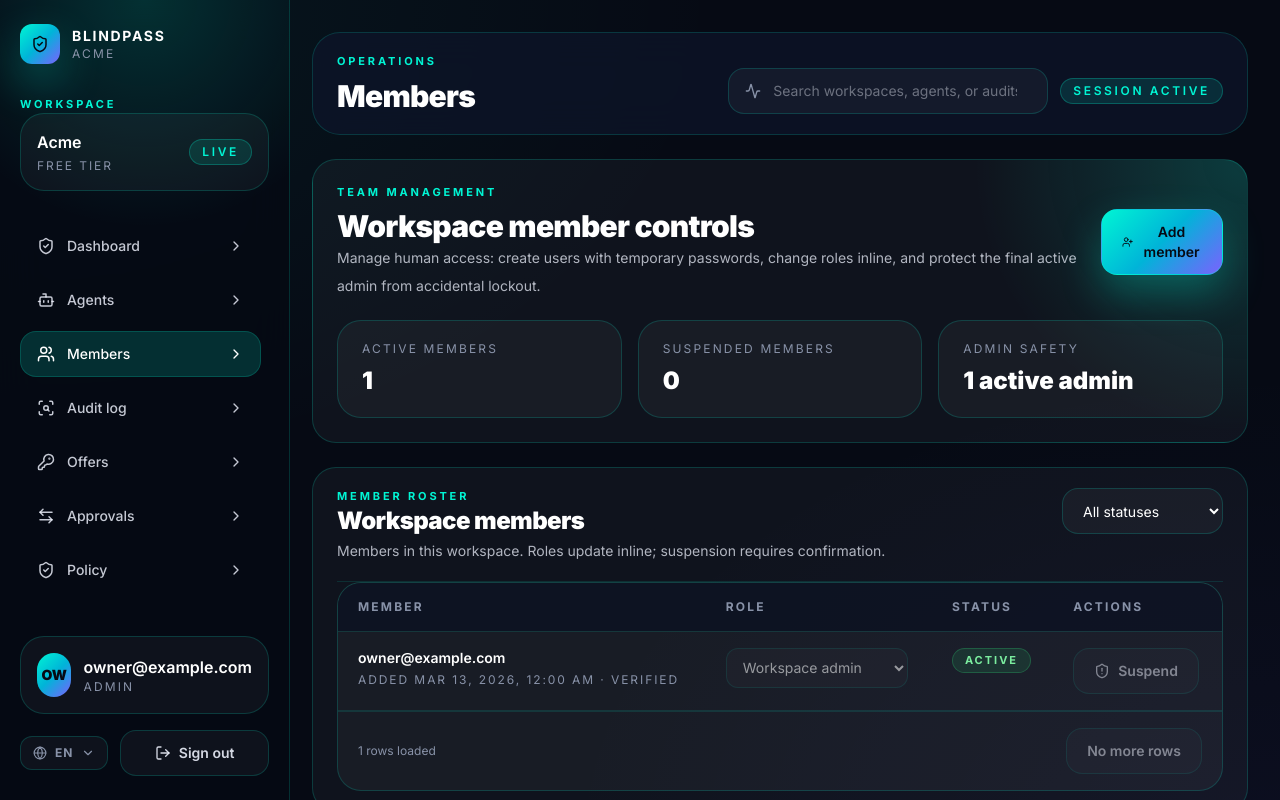
Test: dashboard milestone 3 › blocks weak temporary passwords and disables last-admin suspension
Expected: the dropdown named "Role for owner@example.com" is disabled, [726,648,908,688]
Click the button "Add member" at (1162, 242), box [1101,209,1223,275]
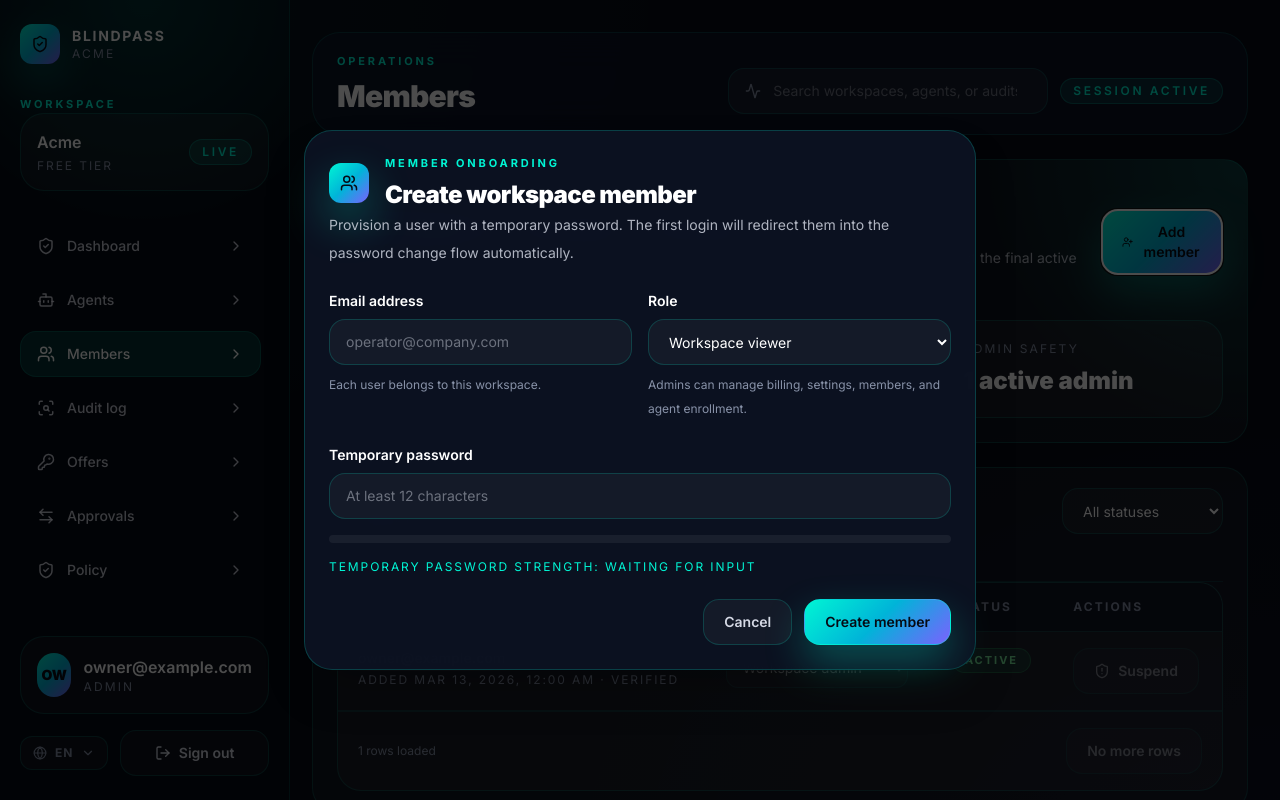
Type "viewer@example.com" into the field labelled "Email address" at (480, 342), box [329,319,632,365]
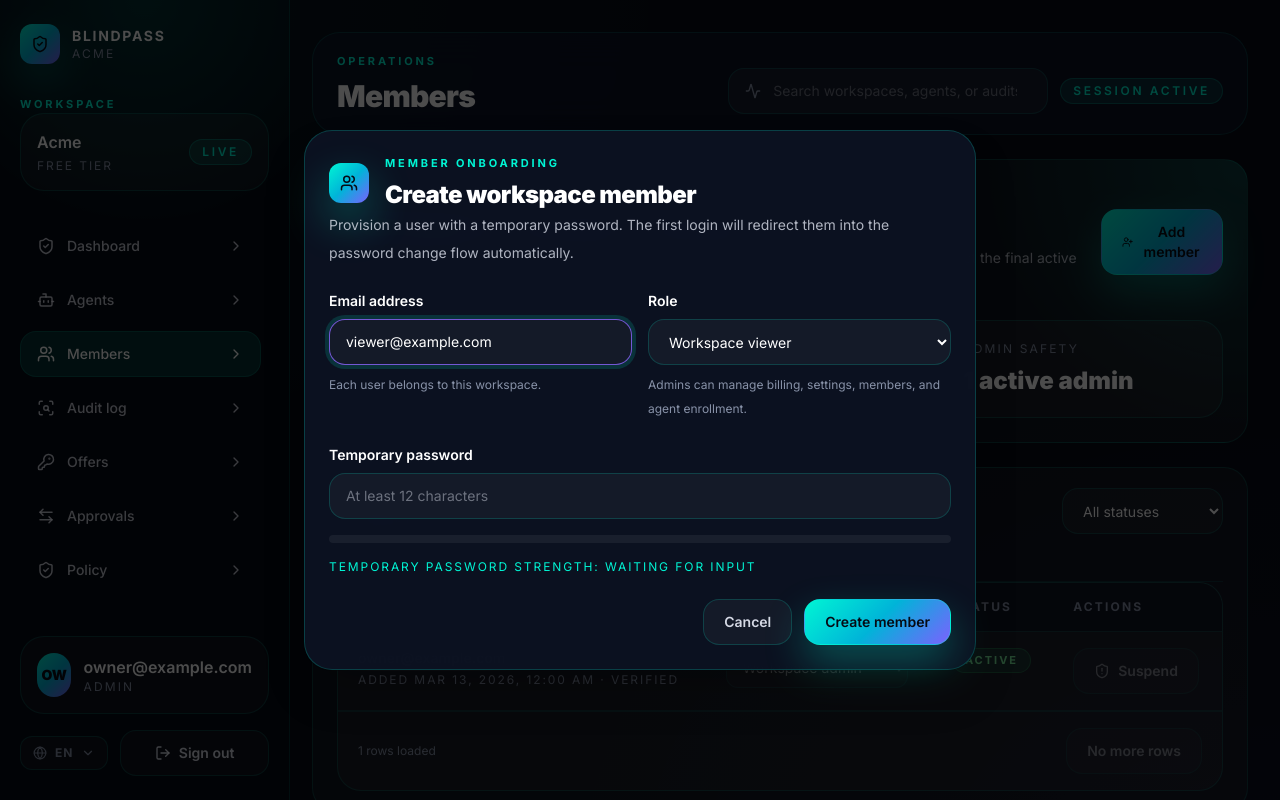
Type "short" into the field labelled "Temporary password" at (640, 496), box [329,473,951,519]
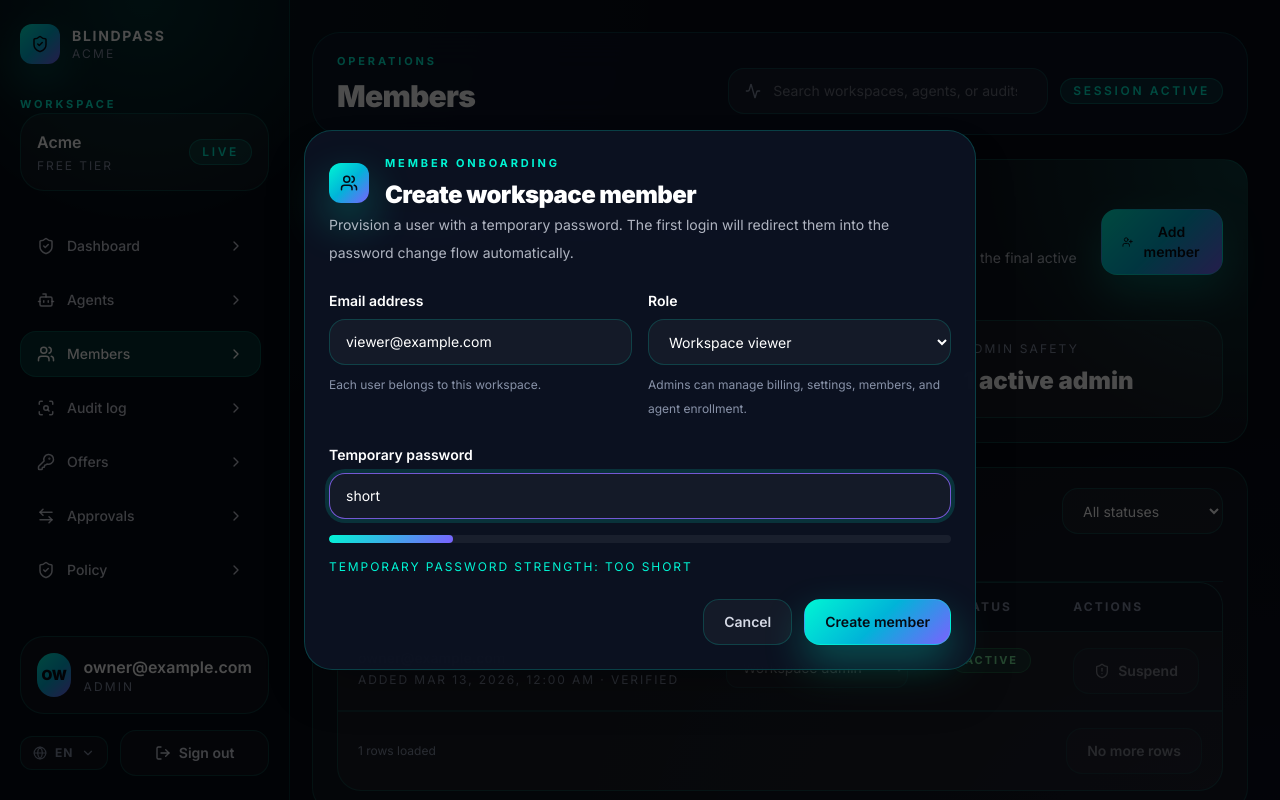
Click the button "Create member" at (878, 622), box [804,599,951,645]
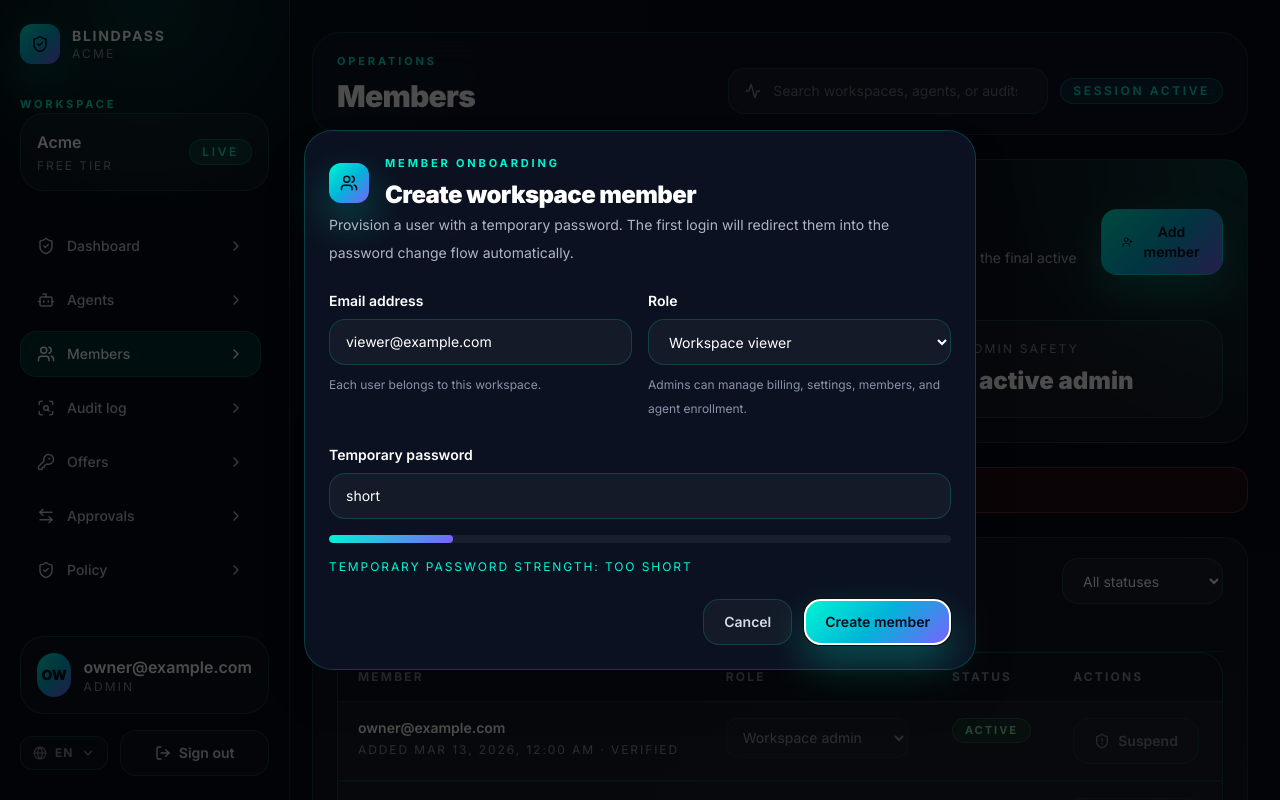
Expected: the text "Temporary password must be at least 12 characters" is shown, [329,481,835,498]
